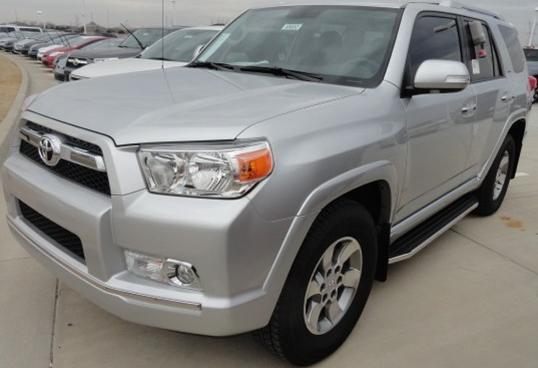front_view: (10, 95, 313, 312)
headlight: (125, 128, 286, 216)
side_glass: (404, 15, 505, 79)
